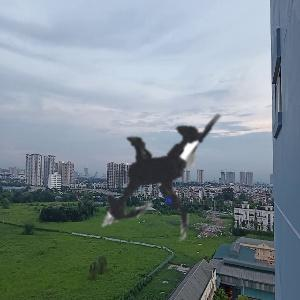drone: (44, 50, 293, 299)
